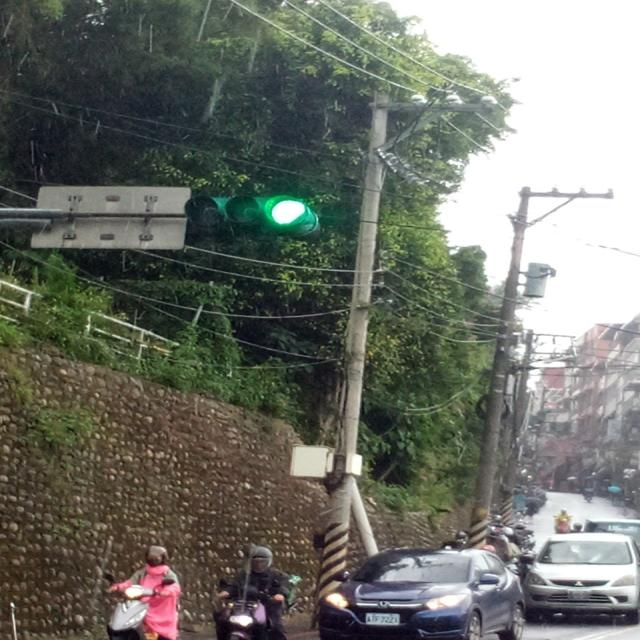green light: (182, 188, 325, 238)
